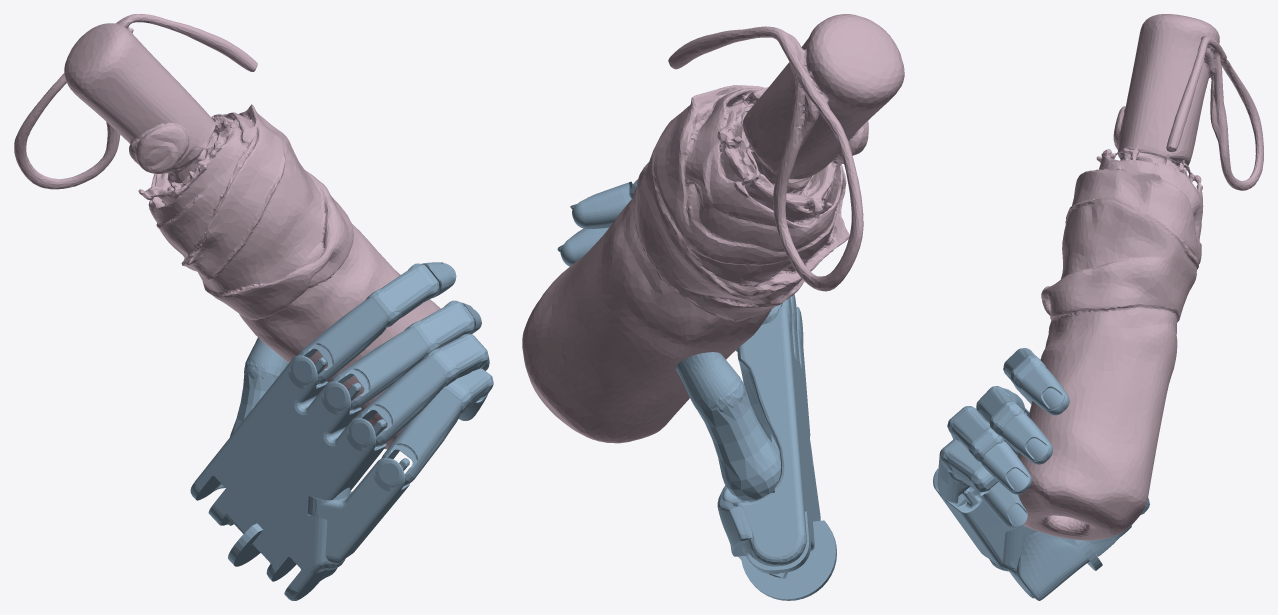
3 renders of one model, left to right at view 1: azimuth 30°, elevation 25°; view 2: azimuth 150°, elevation 25°; view 3: azimuth 270°, elevation 25°, orthographic. The views are drawn at different scales.
Visible parts, largest first — view 1: world, obj_mesh_grasp_15.obj; view 2: obj_mesh_grasp_15.obj, world; view 3: obj_mesh_grasp_15.obj, world.
Boxes of the visible parts, x1,y1,x2,y2 form: world: (190, 262, 493, 600); obj_mesh_grasp_15.obj: (14, 14, 440, 449); obj_mesh_grasp_15.obj: (522, 14, 904, 443); world: (557, 179, 836, 600); obj_mesh_grasp_15.obj: (1017, 14, 1263, 540); world: (933, 348, 1149, 600).
Size of the model in its own units: 0.2081 by 0.3016 by 0.171.
